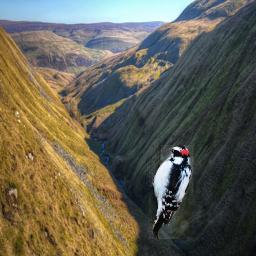Woodpecker: (147, 145, 194, 239)
